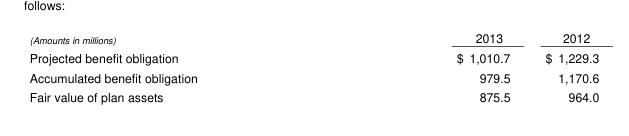table: (28, 29, 598, 104)
table column: (28, 29, 326, 104), (326, 29, 527, 104), (527, 29, 598, 104)
table column header: (28, 29, 598, 47)
table row: (28, 47, 598, 67), (28, 67, 598, 86), (28, 29, 598, 47), (28, 86, 598, 104)
